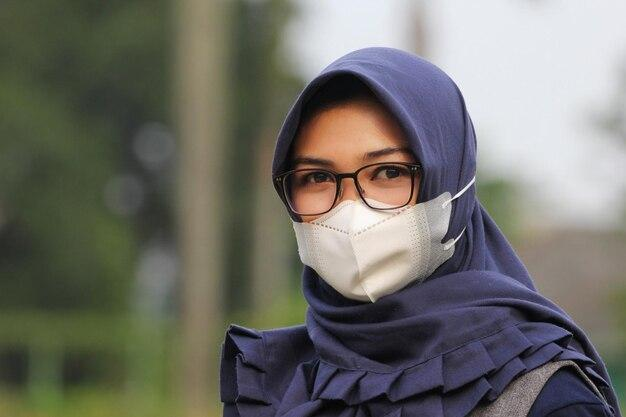mask: (289, 191, 446, 307)
scarf-kerchief: (204, 41, 602, 413)
